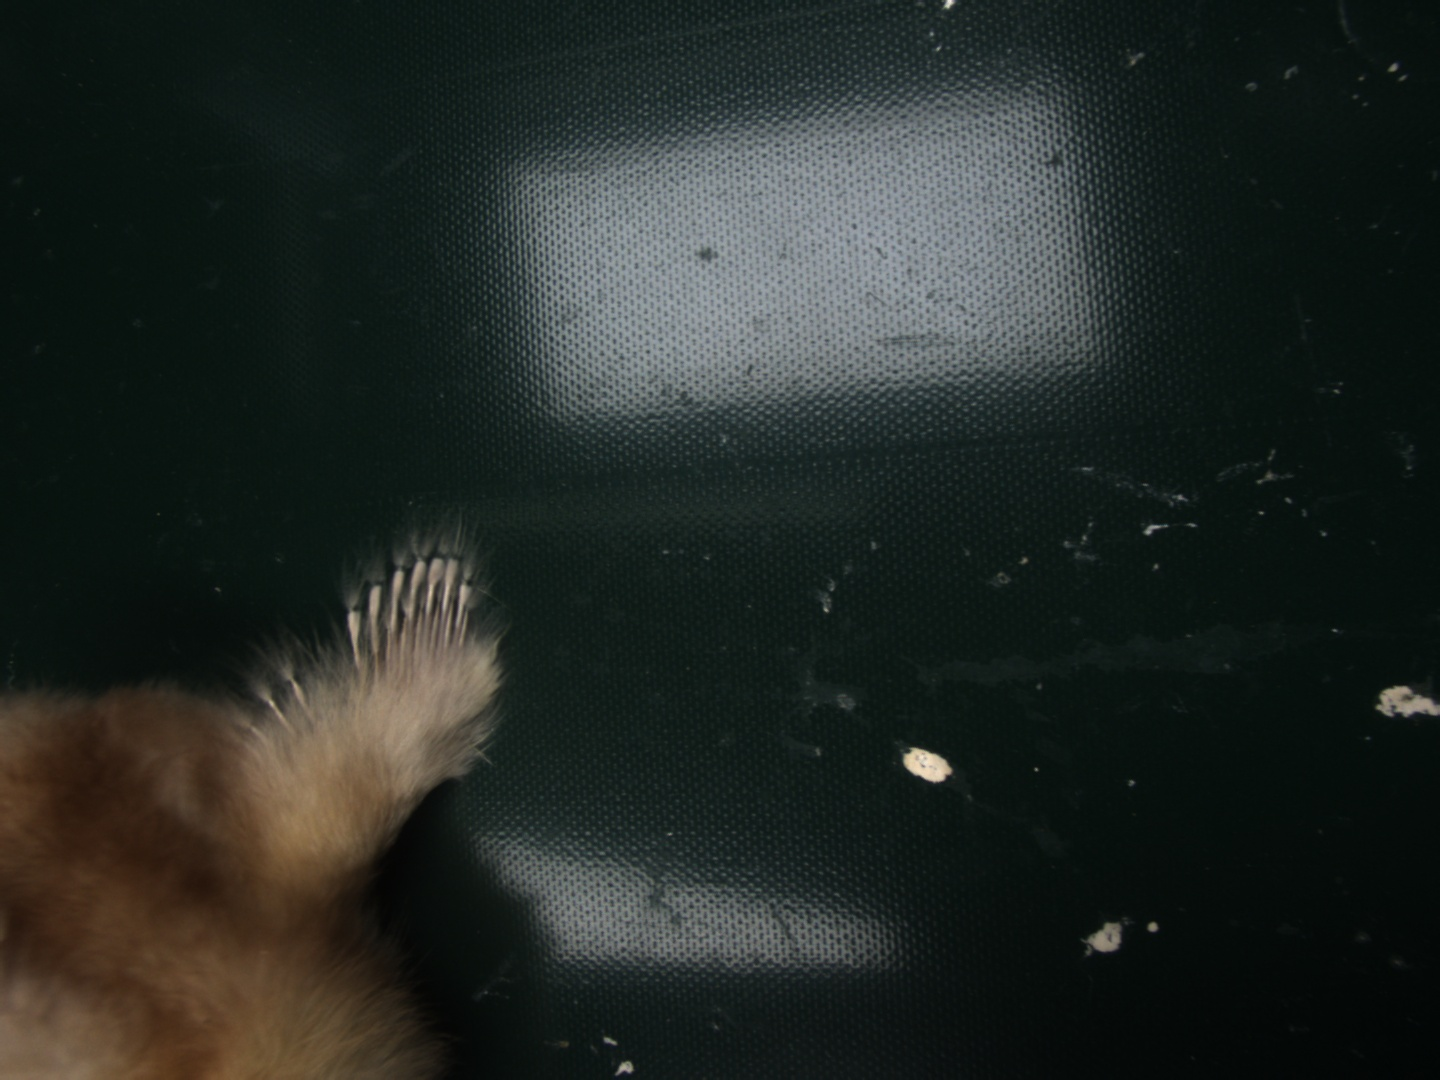female: (342, 546, 476, 666)
